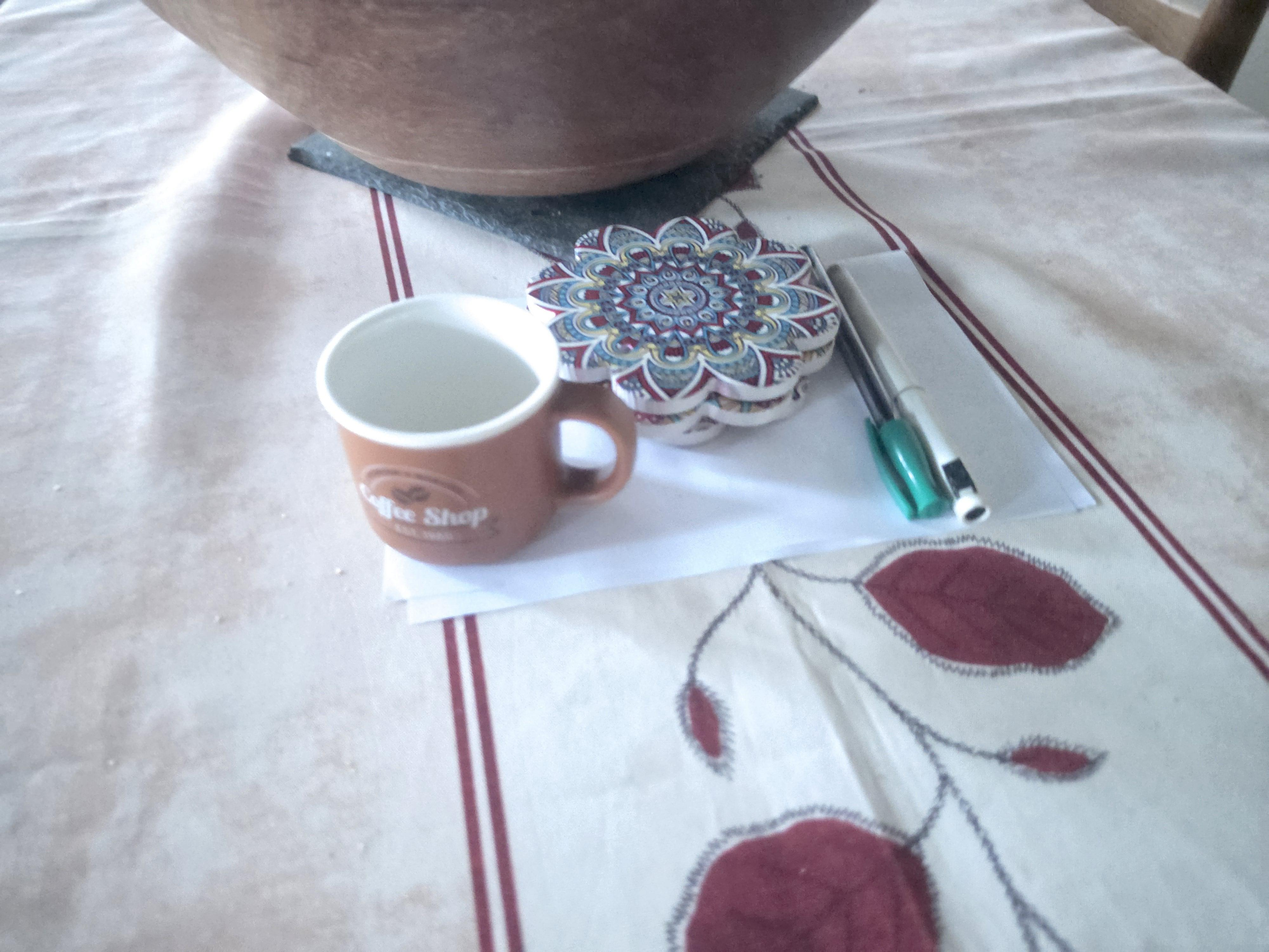mug: (316, 293, 637, 567)
